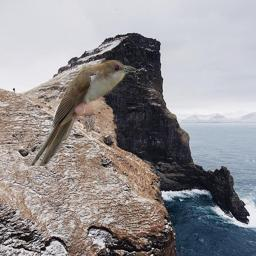Cuckoo: (30, 60, 136, 166)
